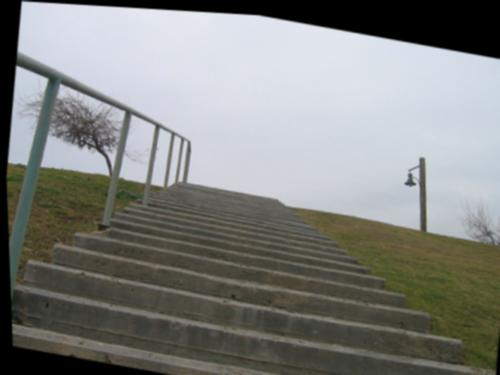Bench: (4, 147, 500, 375)
